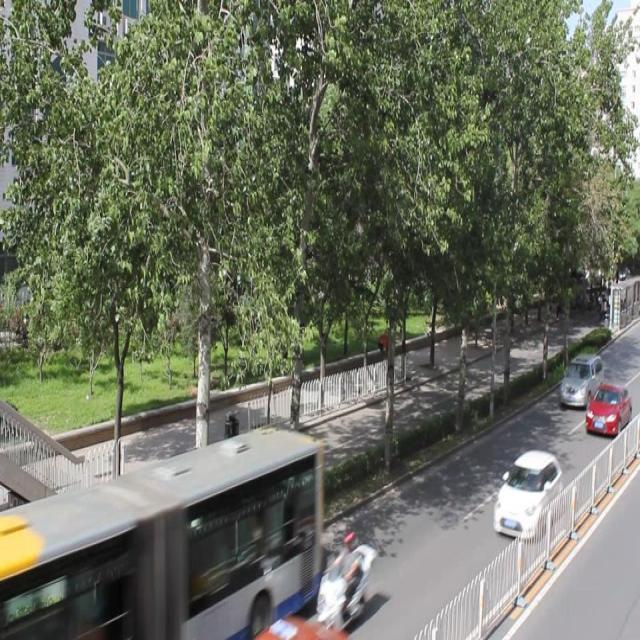car: (492, 449, 560, 538), (256, 612, 344, 640), (584, 383, 630, 436), (559, 352, 602, 407)
van: (0, 432, 321, 640)
